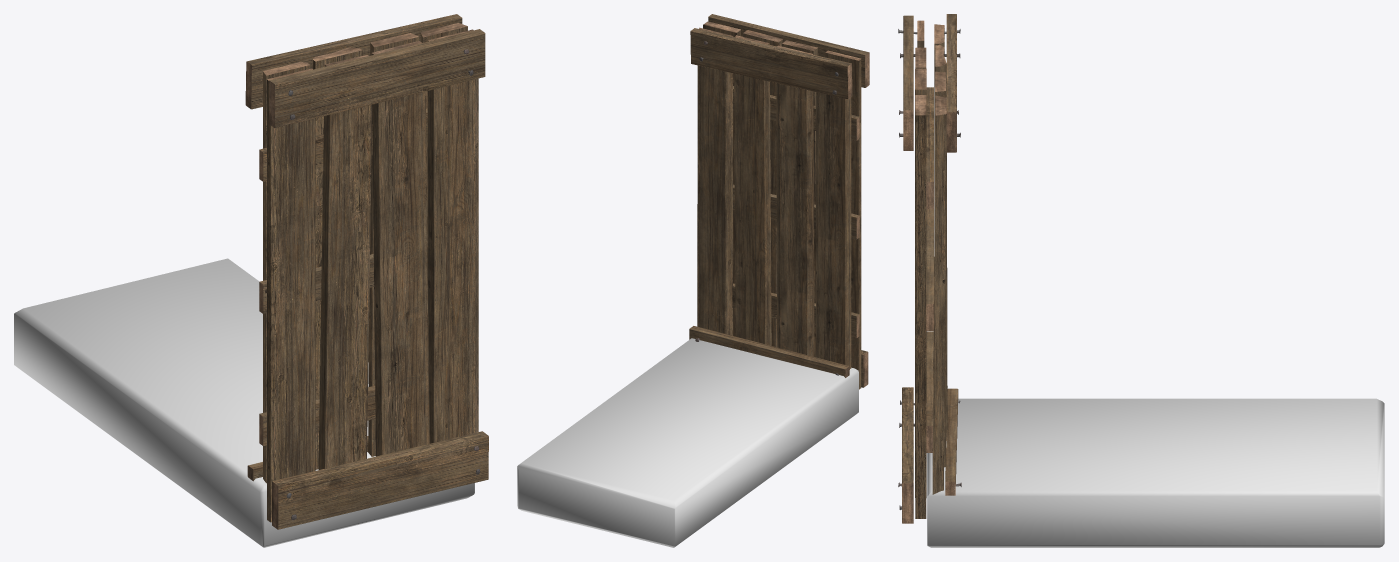
The model's file is SM_Wall_half_B.fbx.
The picture shows the model from 3 angles, left to right: view 1: azimuth 30°, elevation 25°; view 2: azimuth 150°, elevation 25°; view 3: azimuth 270°, elevation 25°; orthographic projection. The views are drawn at different scales.
Parts seen in each view (by area): view 1: SM_Wall_half_B, SM_Wall_half_B_ConvexHulls; view 2: SM_Wall_half_B, SM_Wall_half_B_ConvexHulls; view 3: SM_Wall_half_B_ConvexHulls, SM_Wall_half_B.
Part boxes in pixels (x1=…): SM_Wall_half_B: x1=245, y1=14, x2=488, y2=529; SM_Wall_half_B_ConvexHulls: x1=14, y1=258, x2=474, y2=547; SM_Wall_half_B: x1=689, y1=14, x2=869, y2=389; SM_Wall_half_B_ConvexHulls: x1=517, y1=338, x2=858, y2=547; SM_Wall_half_B_ConvexHulls: x1=927, y1=398, x2=1384, y2=547; SM_Wall_half_B: x1=898, y1=14, x2=961, y2=523.
Size of the model in its own units: 1.52 by 3.25 by 3.25.
